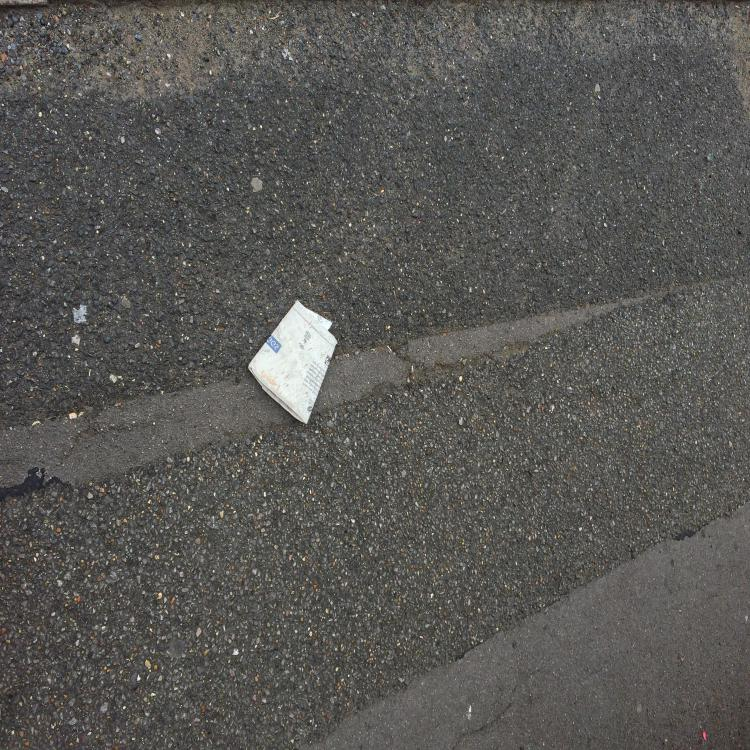Paper cup: (248, 300, 338, 424)
